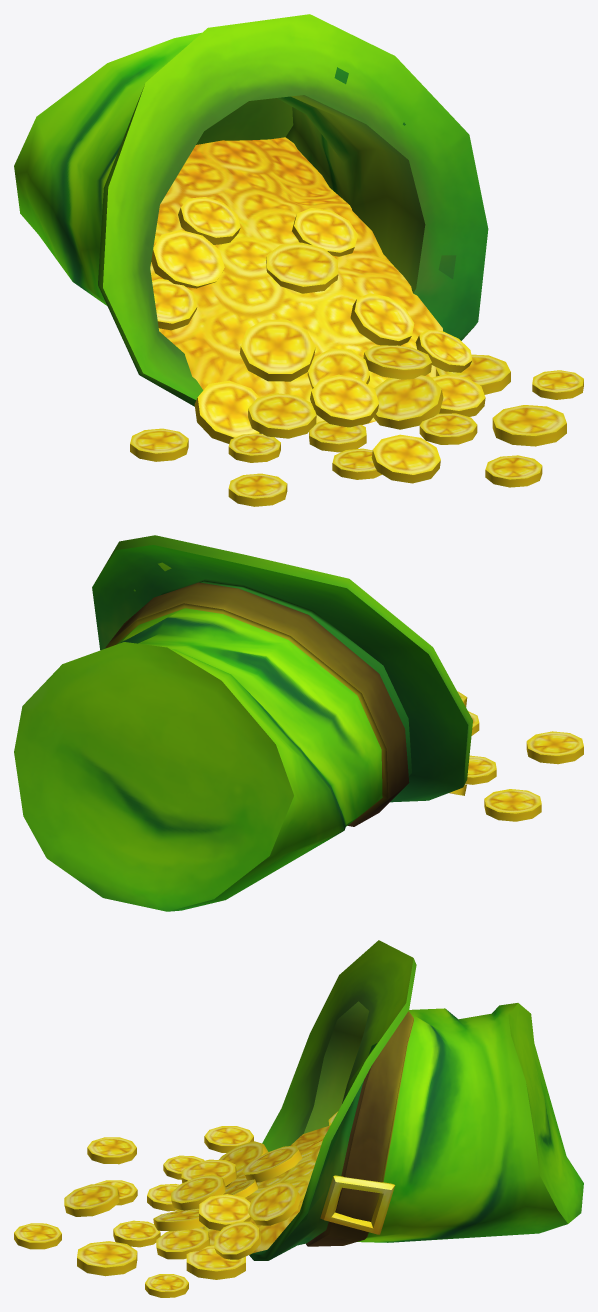
File: LeprechaunHat.fbx
3 views of the same model, one above another, from view 1: azimuth 30°, elevation 25°; view 2: azimuth 150°, elevation 25°; view 3: azimuth 270°, elevation 25° (orthographic). The views are drawn at different scales.
Parts seen in each view (by area): view 1: Leprechaun_Hat; view 2: Leprechaun_Hat; view 3: Leprechaun_Hat.
Part boxes in pixels (x1,y1,x2,y2): Leprechaun_Hat: [14, 14, 583, 506]; Leprechaun_Hat: [14, 535, 583, 911]; Leprechaun_Hat: [14, 940, 583, 1297].
Bounding box in the file's own units: 30.61 × 44.67 × 22.17.
